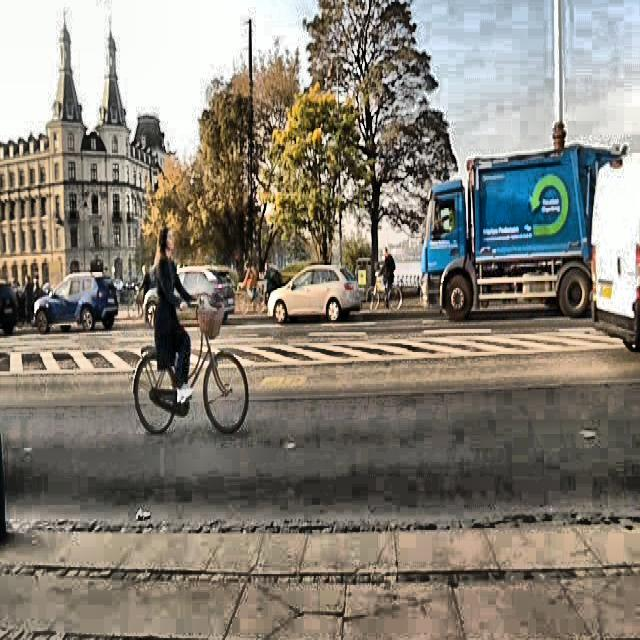ladcykel: (134, 294, 252, 436)
